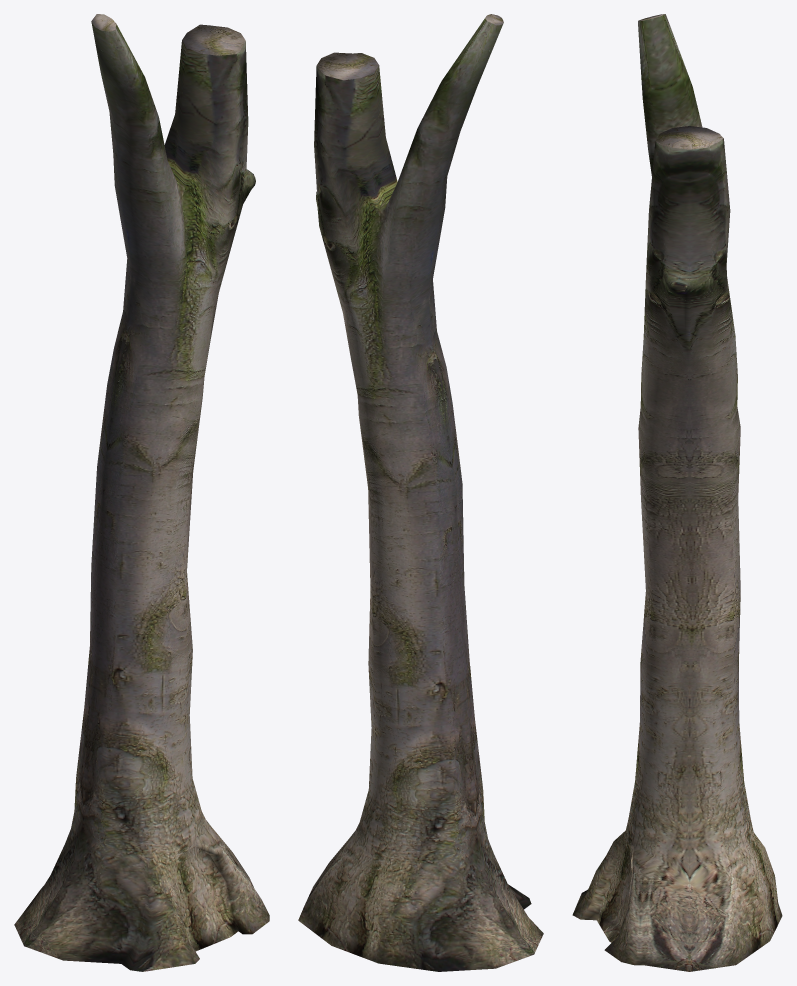
Rendered from dtree2.fbx.
3 renders of one model, left to right at view 1: azimuth 30°, elevation 25°; view 2: azimuth 150°, elevation 25°; view 3: azimuth 270°, elevation 25°, orthographic. The views are drawn at different scales.
Parts seen in each view (by area): view 1: U3DMesh; view 2: U3DMesh; view 3: U3DMesh.
Boxes of the visible parts, box(x1,y1,x2,y2) form: U3DMesh: box(14, 14, 269, 971); U3DMesh: box(298, 14, 543, 971); U3DMesh: box(572, 14, 782, 971).
Bounding box in the file's own units: 95.99 × 369 × 79.84.
Materials: 1 (1 with a texture image).
